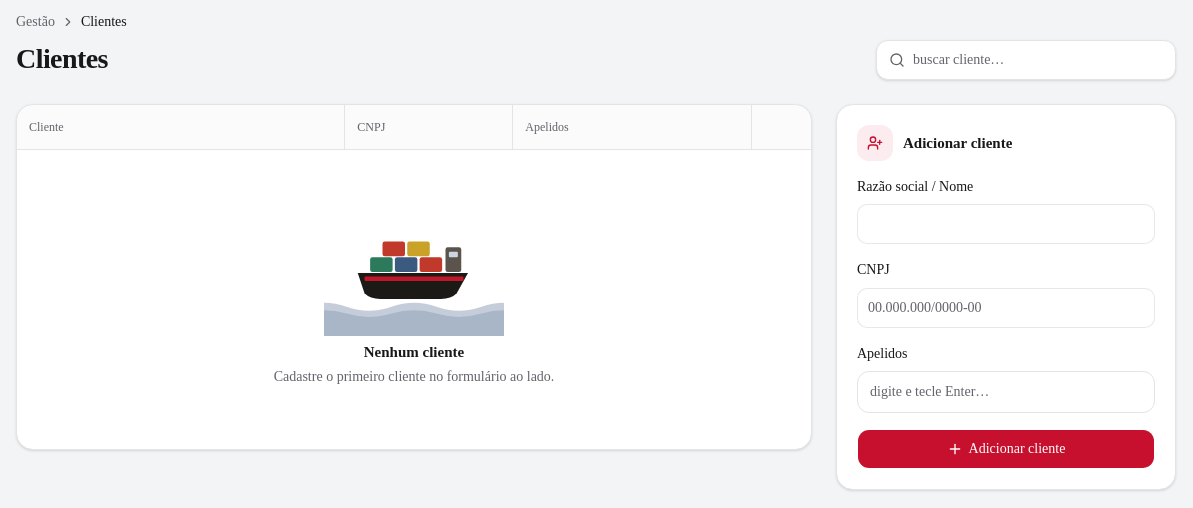
Test: ClientesPage › CNPJ ganha máscara enquanto digita (redesign 21/10/2026)
Type "12345678000199999" into the field labelled "CNPJ".
click(1006, 308); type("12345678000199999")  # box top-left (857, 288), bottom-right (1155, 328)
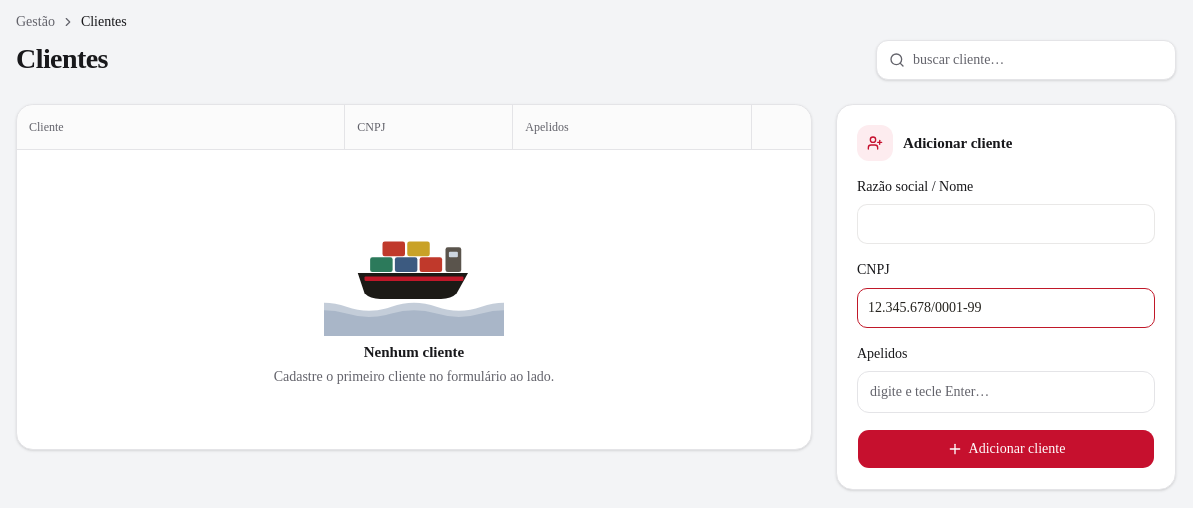
Expected: the field labelled "CNPJ" holds "12.345.678/0001-99", top-left (857, 288), bottom-right (1155, 328)
